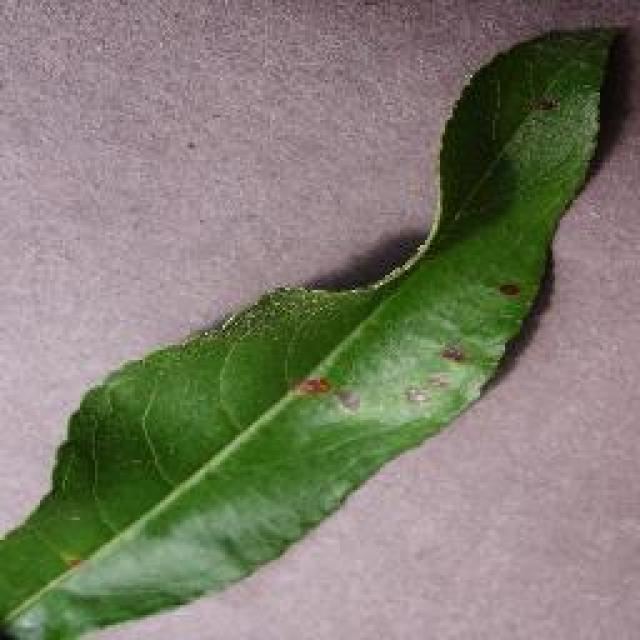Peach_Bacterial_Spot: (364, 158, 558, 452)
